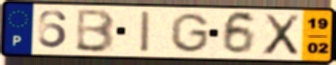6: (218, 10, 259, 59), (37, 9, 69, 50)
B: (73, 8, 117, 55)
G: (168, 12, 211, 54)
I: (139, 10, 152, 54)
X: (261, 13, 302, 57)
